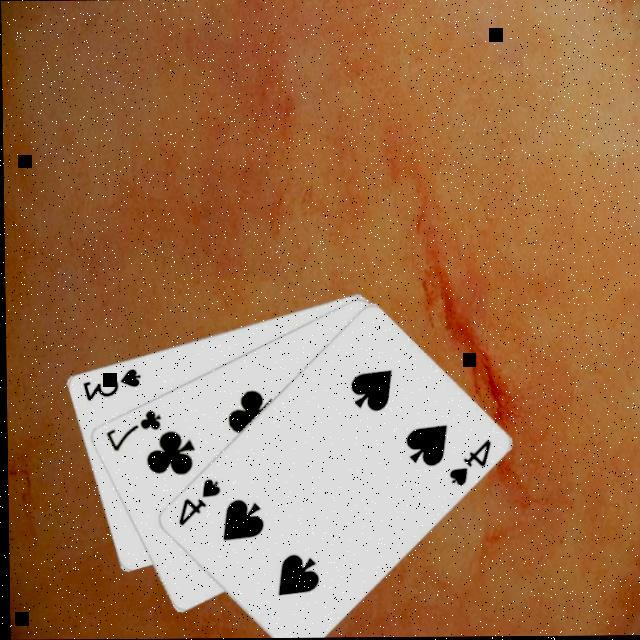3S: (76, 366, 140, 404)
4S: (171, 476, 220, 530), (441, 438, 490, 491)
7C: (98, 408, 161, 456)
